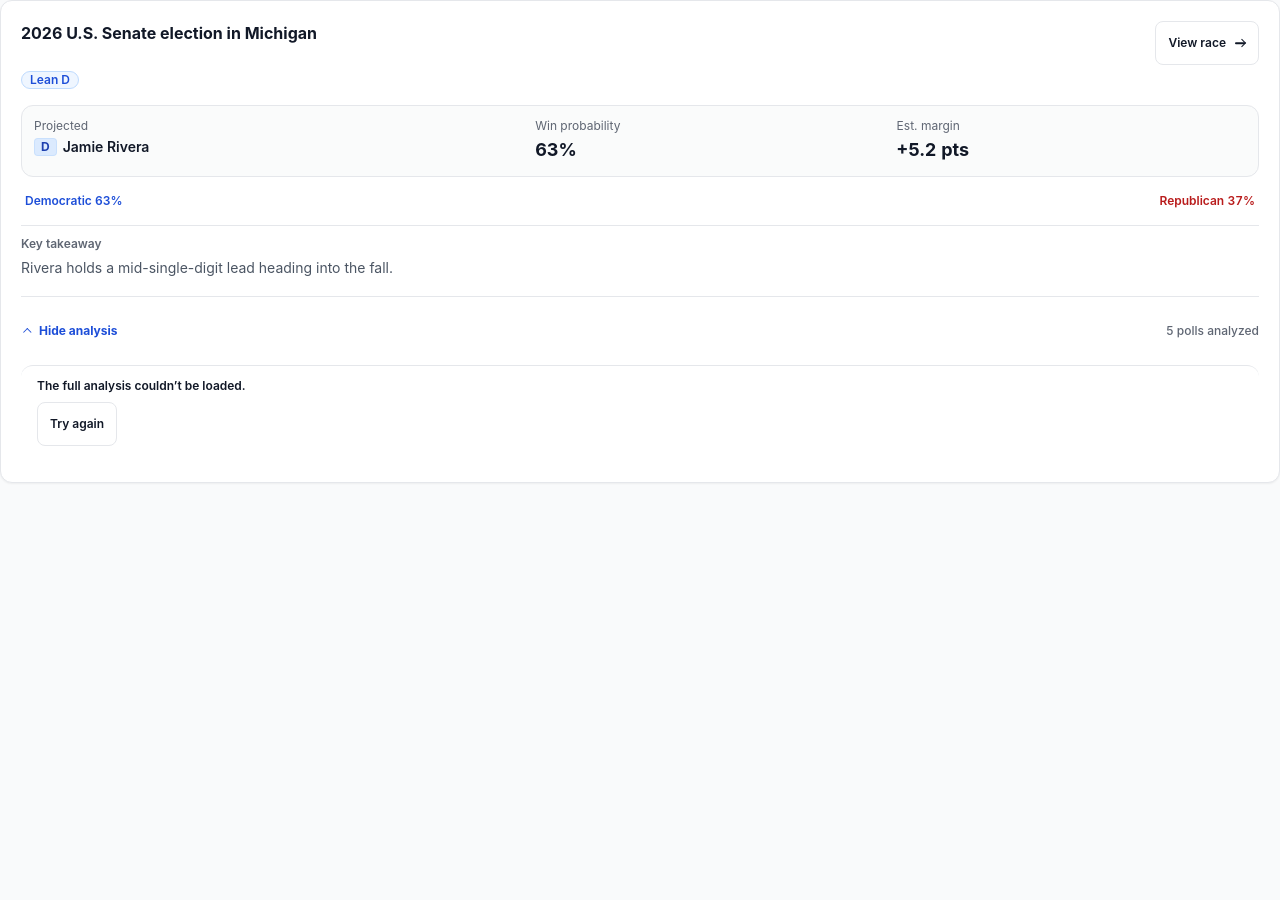
Test: ForecastRaceCard › with a trimmed (page payload) forecast › offers a retry when the details request fails
This screenshot has width=1280, height=900.
Click the button "Try again": (77, 424) [37, 402, 117, 446]
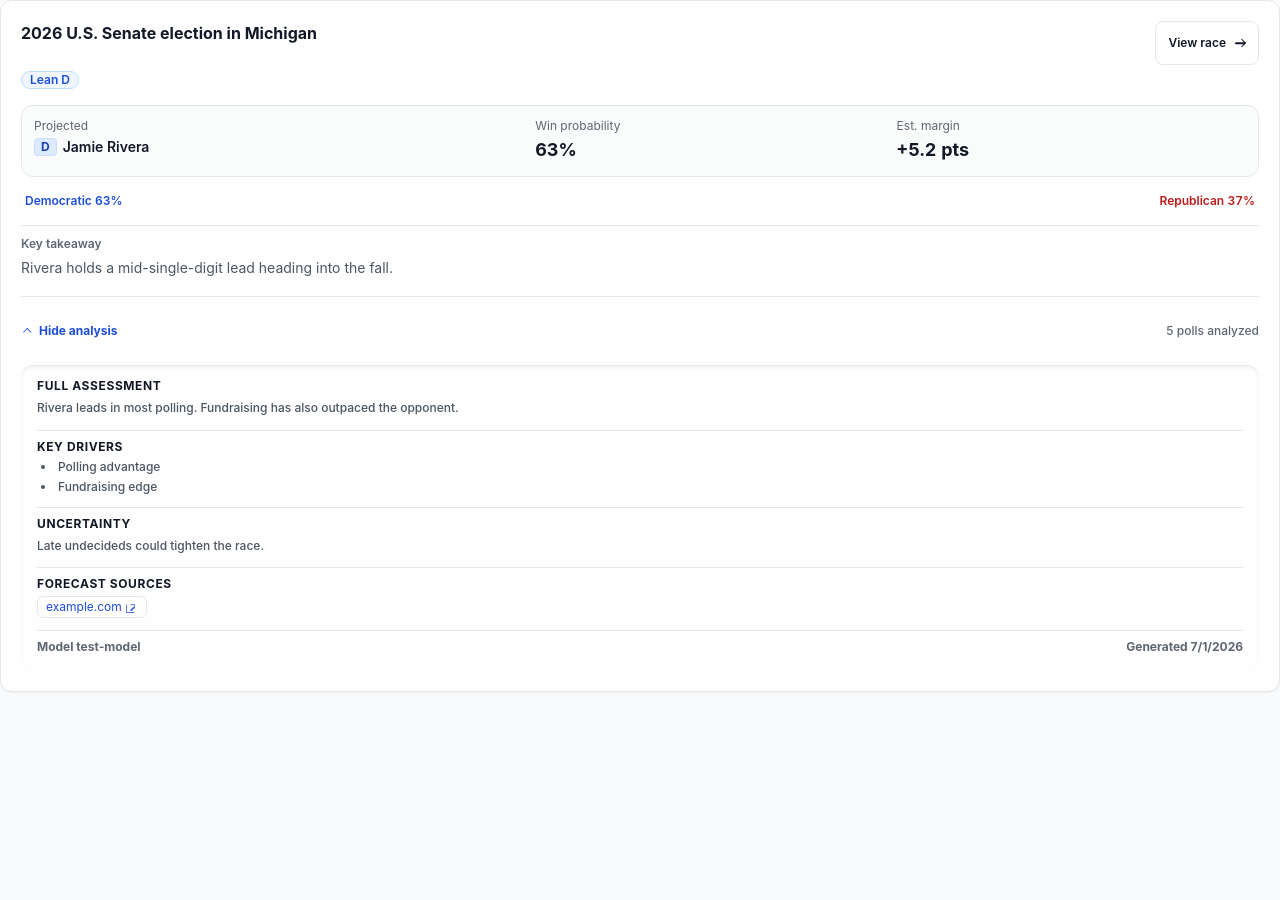
Check: the list item "Polling advantage" is shown, box [58, 458, 160, 474]
